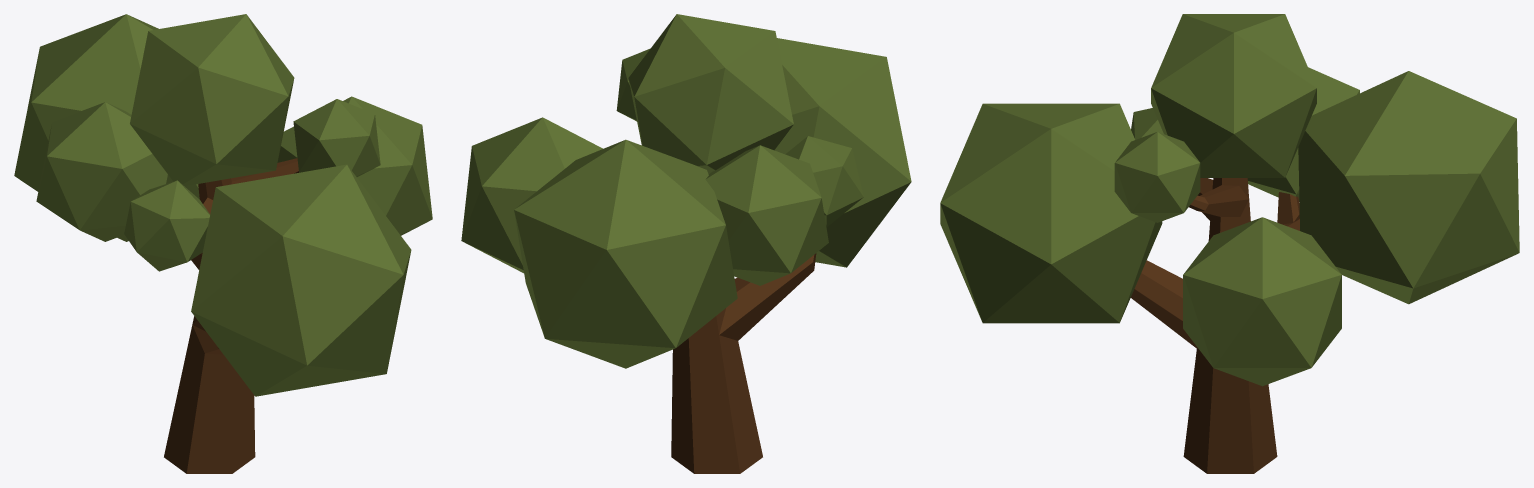
Rendered from ExportedBlenderFBXFile.fbx.
The picture shows the model from 3 angles, left to right: view 1: azimuth 30°, elevation 25°; view 2: azimuth 150°, elevation 25°; view 3: azimuth 270°, elevation 25°; orthographic projection. The views are drawn at different scales.
Parts seen in each view (by area): view 1: Icosphere_001; view 2: Icosphere_001; view 3: Icosphere_001.
Part boxes in pixels (bbox=[...]): Icosphere_001: bbox=[14, 14, 432, 473]; Icosphere_001: bbox=[461, 14, 911, 473]; Icosphere_001: bbox=[940, 14, 1519, 473].
Bounding box in the file's own units: 3.18 × 3.63 × 4.3.
